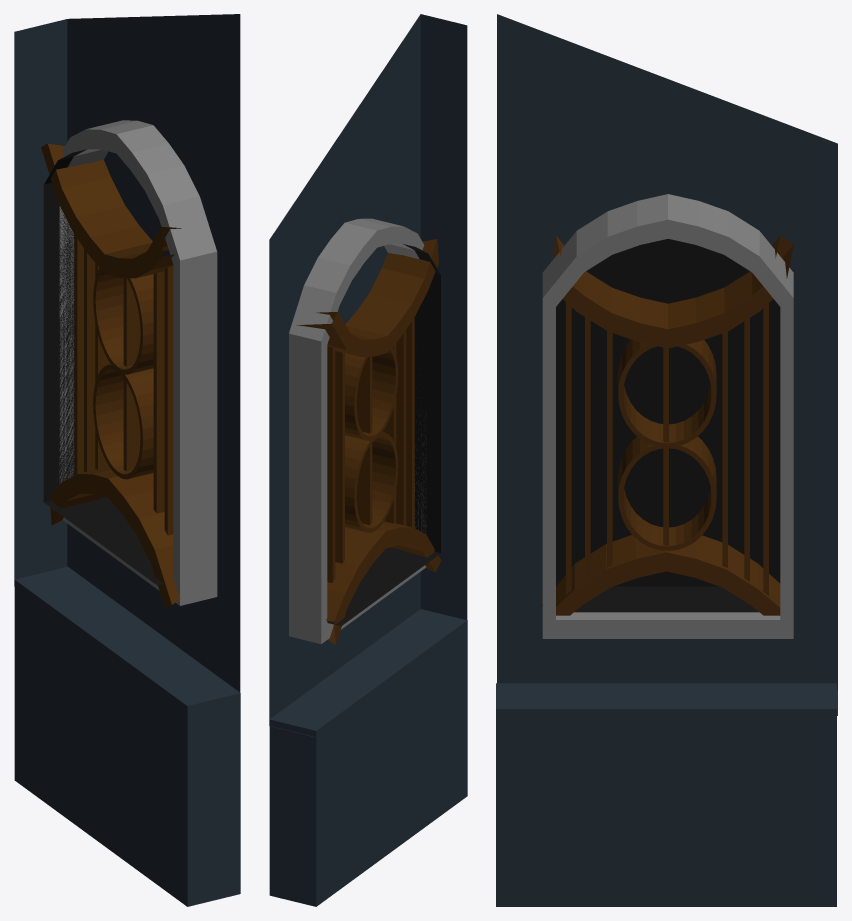
File: main_back_to_side_block3.glb
The picture shows the model from 3 angles, left to right: view 1: azimuth 30°, elevation 25°; view 2: azimuth 150°, elevation 25°; view 3: azimuth 270°, elevation 25°; orthographic projection. The views are drawn at different scales.
Visible parts, largest first — view 1: Cube.001, Cube.010, Cube.003, Cube.002, Cube.004, Cube.007, Cube.006, Cube.005, Cube.013, Cube.014, Cube.008, Cube.011 (+2 smaller); view 2: Cube.001, Cube.010, Cube.003, Cube.002, Cube.004, Cube.007, Cube.006, Cube.005, Cube.009, Cube.011, Cube.008, Cube.014 (+2 smaller); view 3: Cube.001, Cube.010, Cube.002, Cube.003, Cube.004, Cube.007, Cube.006, Cube.005, Cube.012, Cube.015, Cube.011, Cube.014 (+3 smaller).
Part boxes in pixels (x1,y1,x2,y2): Cube.001: (14, 14, 240, 692); Cube.010: (14, 566, 240, 906); Cube.003: (59, 120, 217, 605); Cube.002: (43, 149, 163, 585); Cube.004: (41, 143, 181, 278); Cube.007: (50, 467, 180, 608); Cube.006: (93, 364, 153, 479); Cube.005: (93, 268, 153, 374); Cube.013: (153, 271, 164, 513); Cube.014: (164, 266, 173, 535); Cube.008: (123, 278, 140, 471); Cube.011: (84, 248, 95, 472); Cube.001: (269, 14, 467, 737); Cube.010: (269, 609, 467, 906); Cube.003: (289, 218, 426, 643); Cube.002: (327, 244, 440, 626); Cube.004: (297, 239, 438, 356); Cube.007: (326, 521, 441, 645); Cube.006: (345, 432, 398, 532); Cube.005: (345, 347, 398, 440); Cube.009: (335, 351, 344, 563); Cube.011: (327, 346, 335, 582); Cube.008: (356, 357, 372, 524); Cube.014: (396, 330, 406, 525); Cube.001: (497, 14, 837, 715); Cube.010: (496, 683, 836, 906); Cube.002: (556, 239, 780, 612); Cube.003: (542, 194, 793, 638); Cube.004: (553, 236, 793, 348); Cube.007: (541, 535, 780, 615); Cube.006: (618, 436, 716, 550); Cube.005: (618, 339, 716, 447); Cube.012: (763, 303, 768, 595); Cube.015: (566, 302, 571, 594); Cube.011: (744, 318, 749, 581); Cube.014: (585, 317, 590, 580).
Size of the model in its own units: 1.01 by 12.21 by 4.36.
